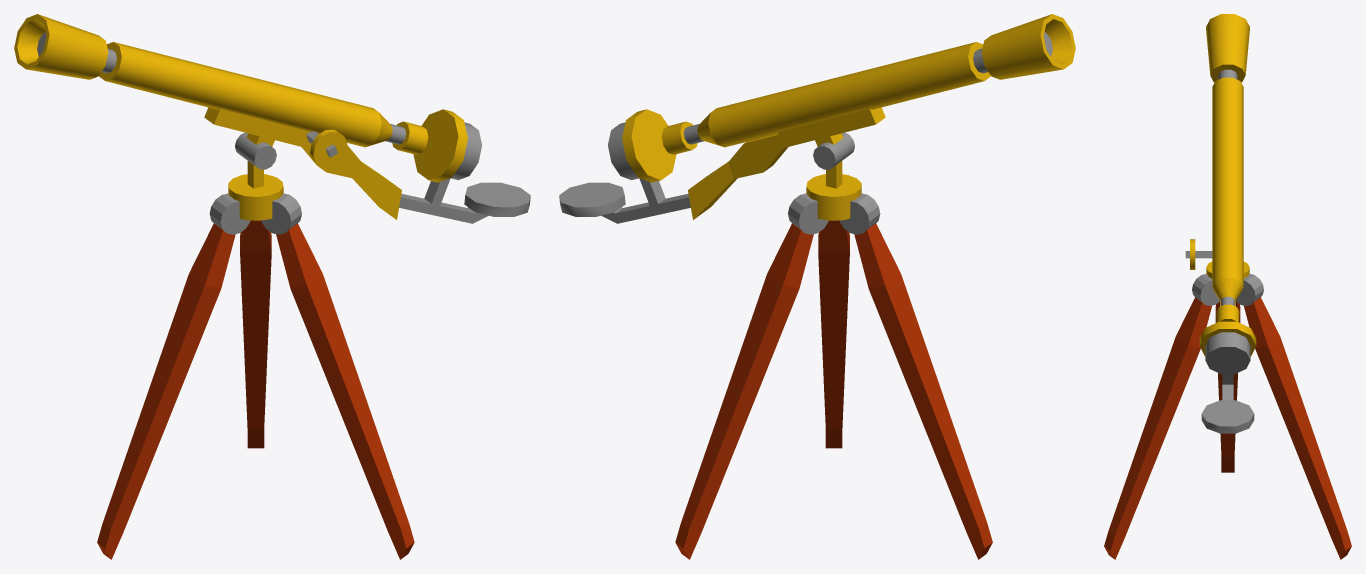
File: telescope.fbx
3 views of the same model, side by side, from view 1: azimuth 30°, elevation 25°; view 2: azimuth 150°, elevation 25°; view 3: azimuth 270°, elevation 25° (orthographic). The views are drawn at different scales.
Parts seen in each view (by area): view 1: Cylinder.005, Cylinder.008, Cylinder.001, Cylinder.007, Cylinder, Cylinder.002; view 2: Cylinder.005, Cylinder.007, Cylinder.001, Cylinder.008, Cylinder, Cylinder.002; view 3: Cylinder.005, Cylinder.007, Cylinder.008, Cylinder.001.
Boxes of the visible parts, x1,y1,x2,y2 form: Cylinder.005: (14,14,530,223); Cylinder.008: (261,193,414,559); Cylinder.001: (97,193,250,559); Cylinder.007: (240,220,271,448); Cylinder: (228,174,283,220); Cylinder.002: (235,132,276,169); Cylinder.005: (559,14,1075,223); Cylinder.007: (675,193,828,559); Cylinder.001: (839,193,992,559); Cylinder.008: (818,220,849,448); Cylinder: (806,174,861,220); Cylinder.002: (813,132,854,169); Cylinder.005: (1185,14,1256,433); Cylinder.007: (1236,274,1351,559); Cylinder.008: (1104,274,1219,559); Cylinder.001: (1215,301,1240,472).
Size of the model in its own units: 238 by 251 by 130.
